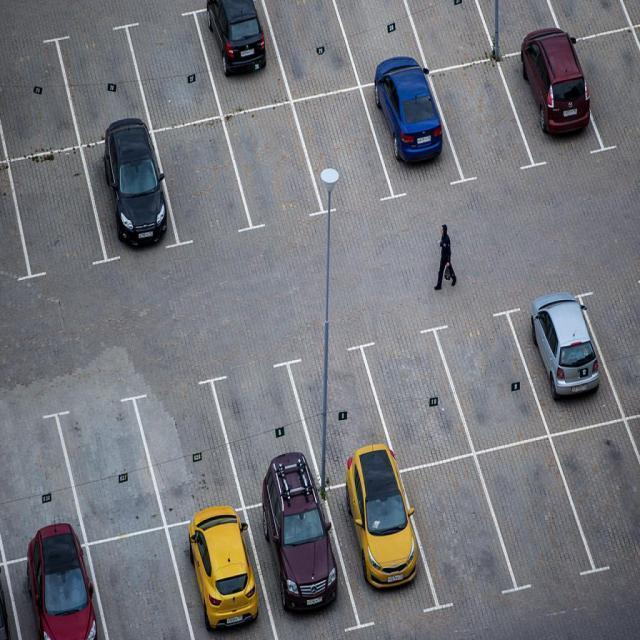space-empty: (410, 458, 504, 615), (485, 435, 580, 586), (3, 144, 103, 286), (299, 82, 386, 215), (376, 313, 455, 459), (451, 309, 525, 460), (231, 106, 321, 229), (154, 123, 247, 242), (306, 341, 382, 482), (437, 53, 522, 179), (94, 532, 188, 640), (567, 415, 637, 560), (131, 6, 211, 132), (229, 365, 302, 503), (78, 402, 141, 544), (0, 419, 67, 550), (67, 20, 138, 143), (0, 35, 74, 153), (161, 381, 221, 524), (583, 23, 639, 139)
space-occupied: (250, 484, 343, 634), (334, 462, 414, 631), (175, 507, 270, 635), (367, 57, 452, 199), (86, 128, 172, 266), (519, 283, 599, 426), (512, 30, 587, 163), (207, 0, 283, 114)
